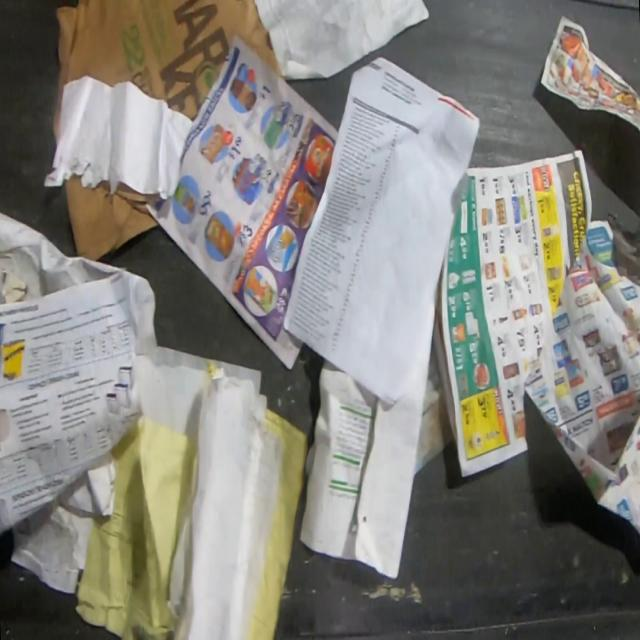cardboard: (52, 0, 284, 142), (62, 176, 162, 262)
